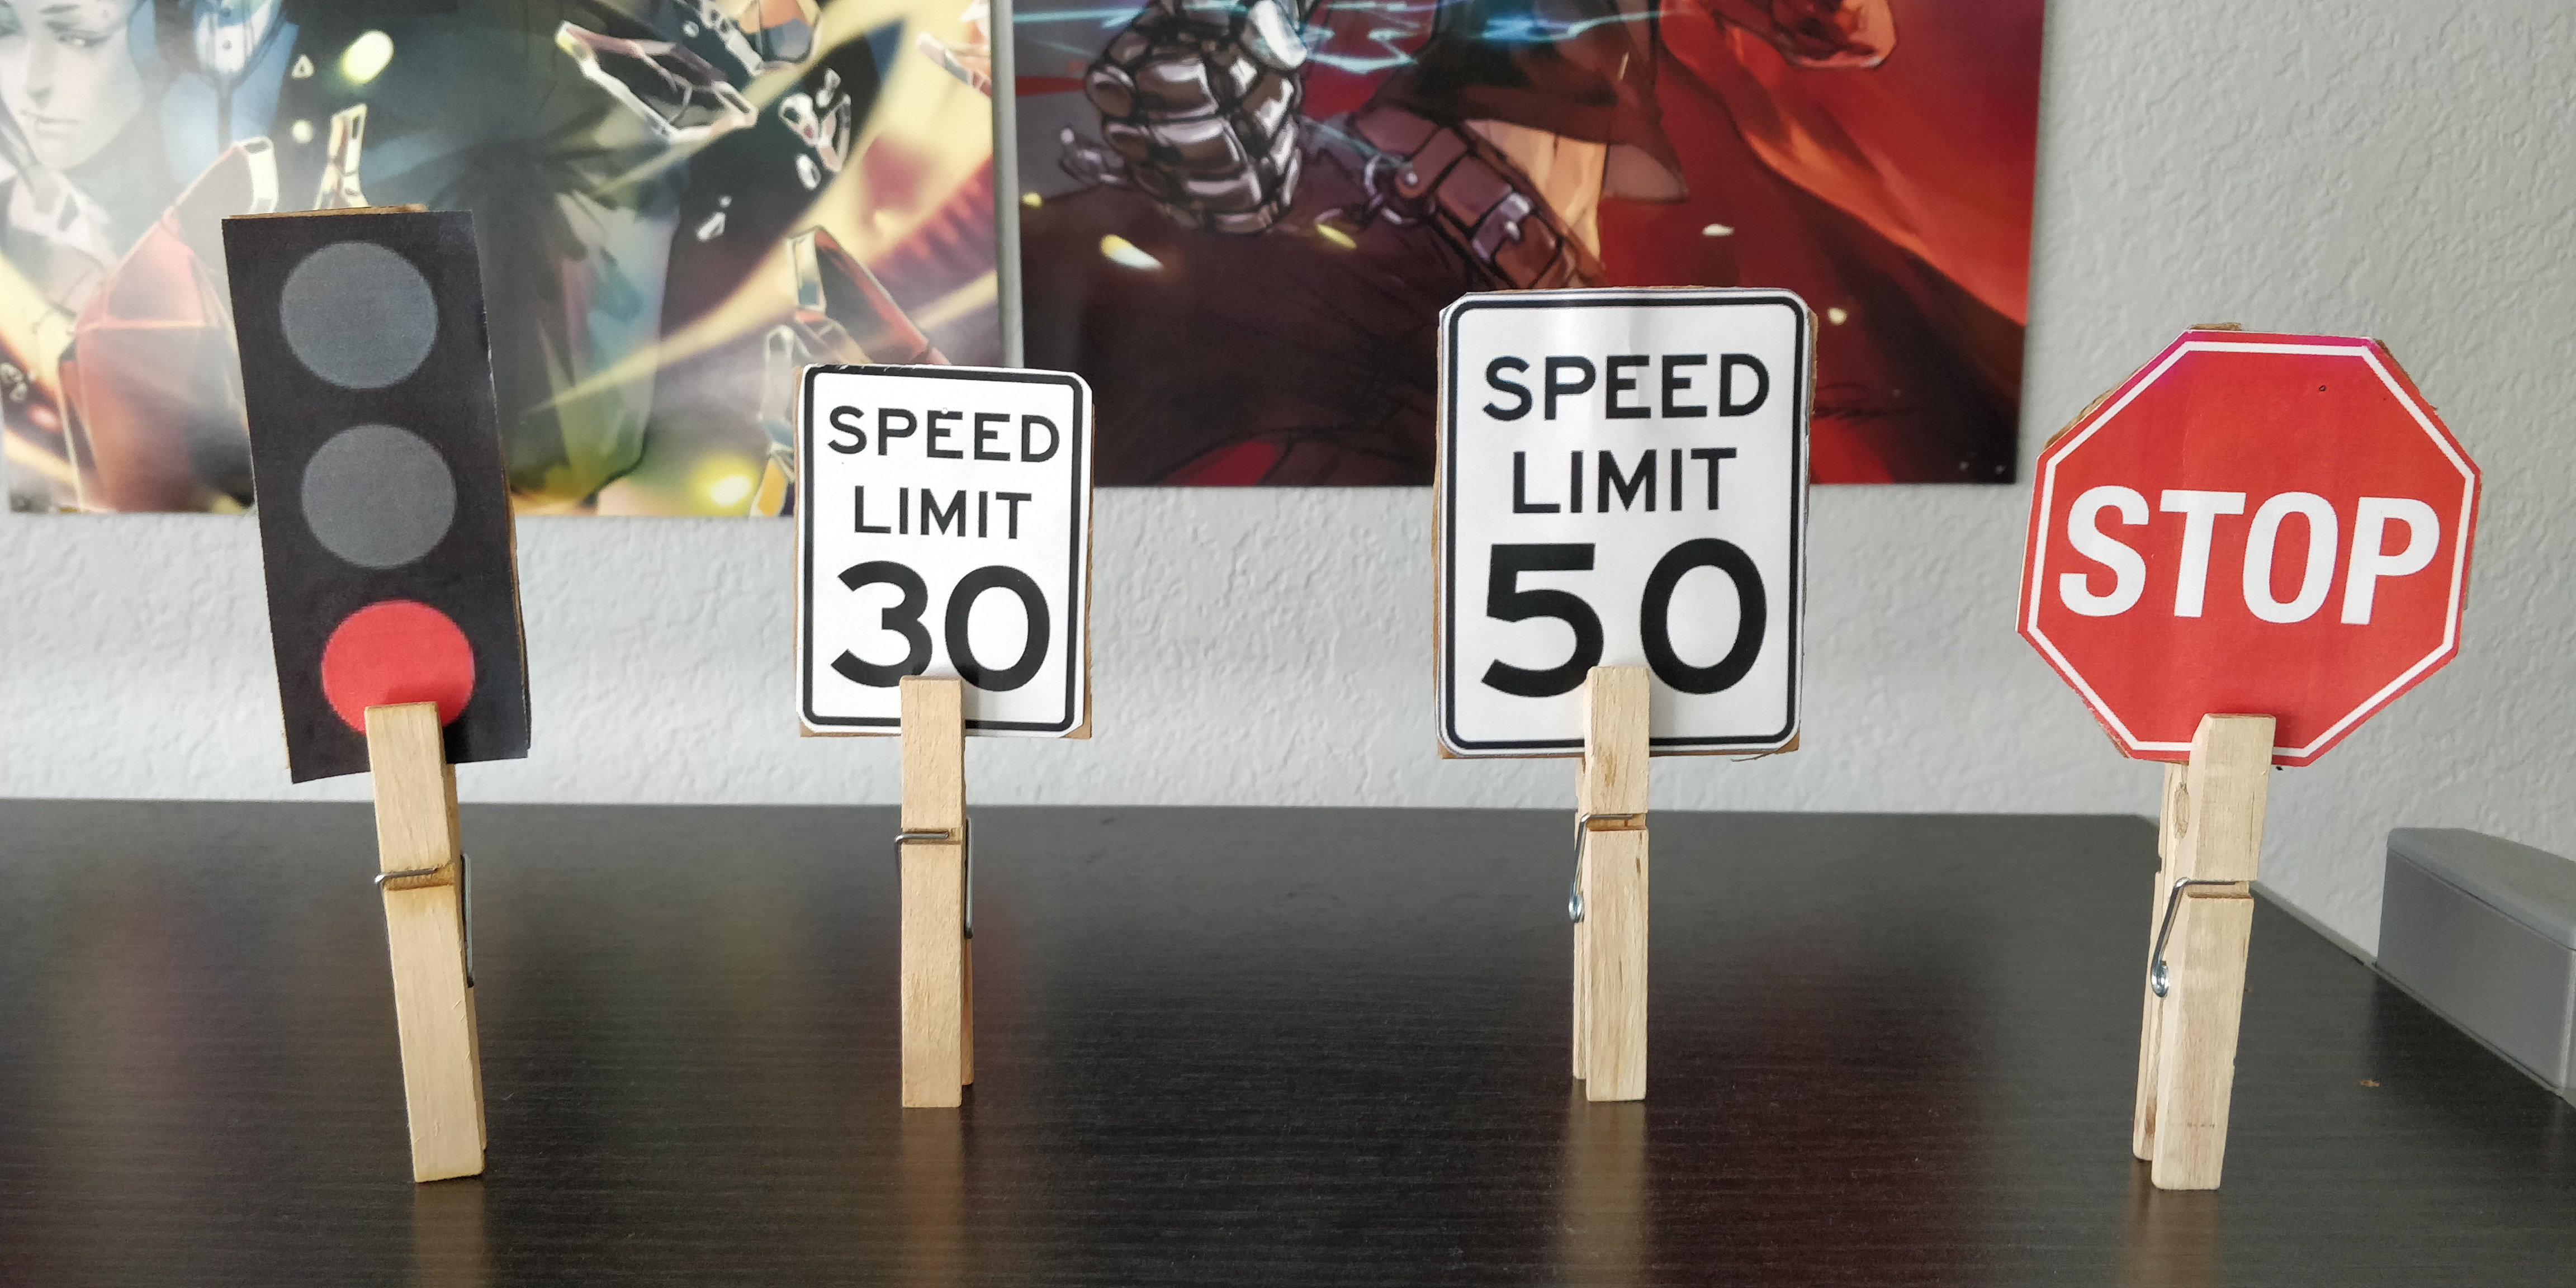Speed Limit 30: (805, 363, 1097, 741)
Speed Limit 50: (1441, 297, 1815, 759)
Stop Sign: (2021, 333, 2481, 767)
red light: (225, 212, 532, 780)
